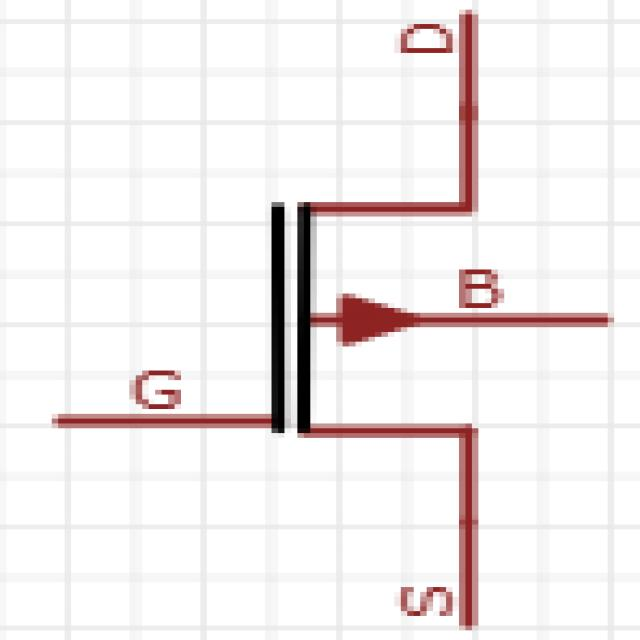pmos: (37, 11, 638, 634)
